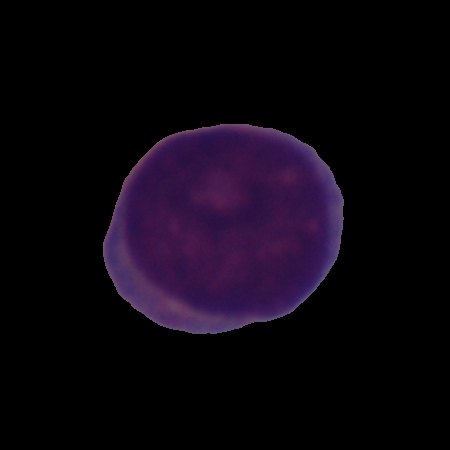ALL: (99, 121, 347, 337)
